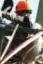hard-hat: (15, 0, 32, 12)
